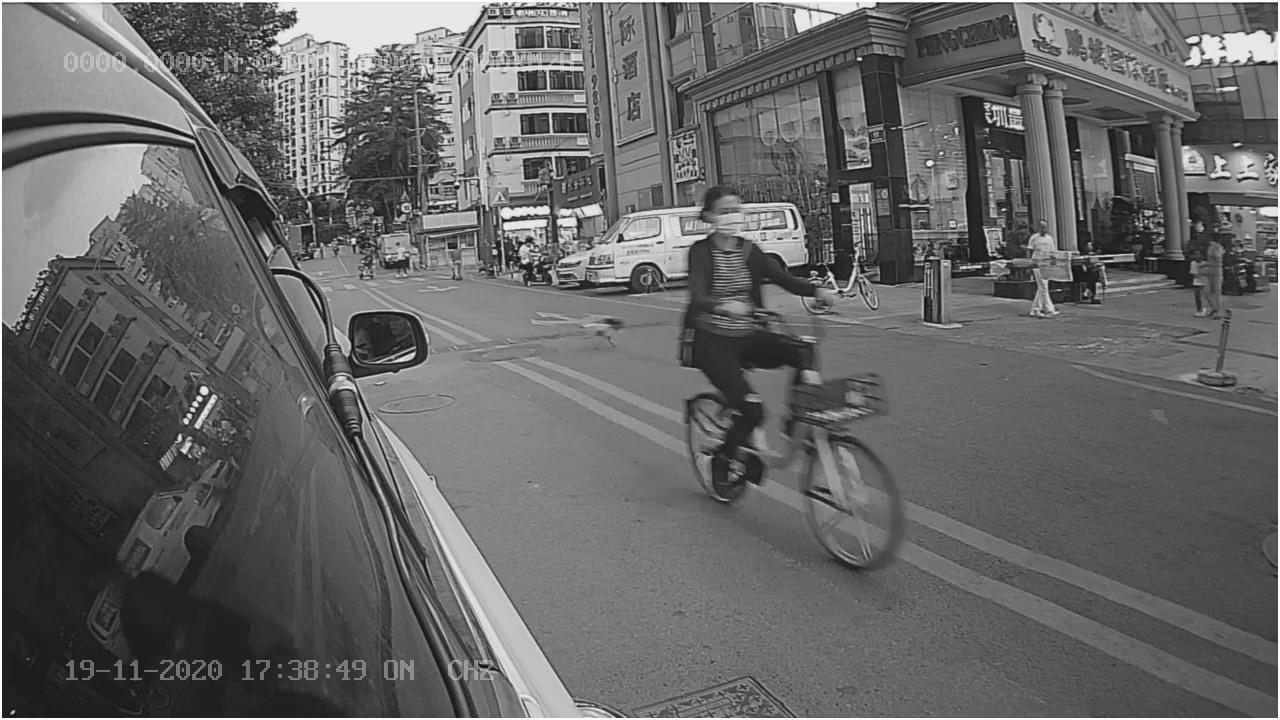person: (682, 194, 802, 394)
